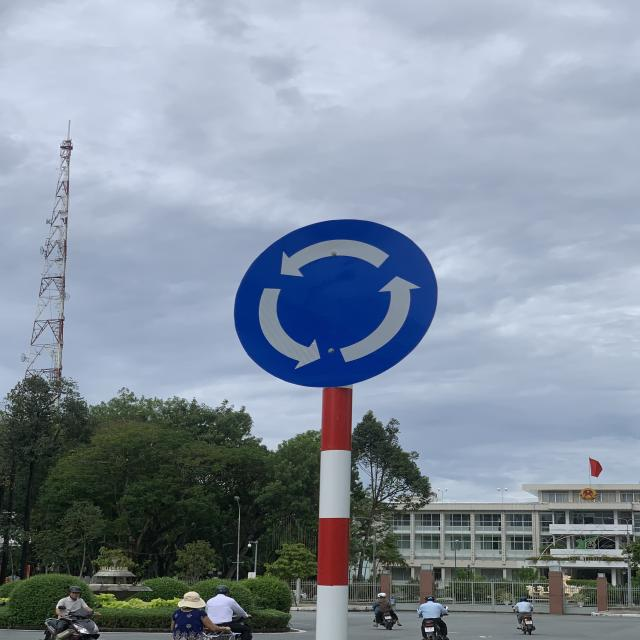Xe_Bus: (235, 216, 437, 386)
